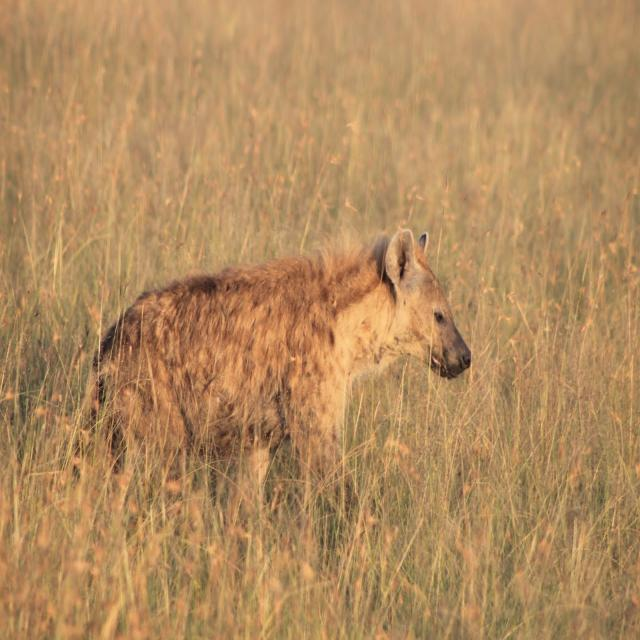Hyena: (90, 224, 474, 523)
